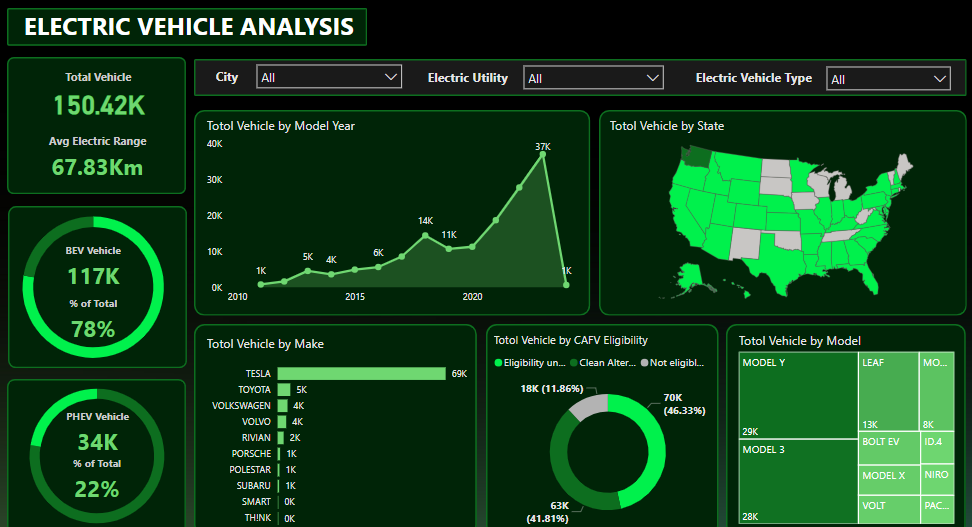

The dashboard page shown, as its layout file describes it:
{"tool":"powerbi","page":{"name":"Electric Vehicle Dashboard","canvas":[1280,720],"ordinal":0},"visuals":[{"type":"shape","box":[9.6,15.1,473.5,49.5],"z":0},{"type":"textbox","box":[26.2,12.4,456.9,55.1],"z":1000},{"type":"shape","box":[9.6,79.8,235.4,180.3],"z":2000},{"type":"card","title":"Total Vehicle","fields":{"Values":["Electric_Vehicle_Population_Data.Totol Vehicle"]},"box":[11.4,95.8,234.5,70.1],"z":3000},{"type":"card","title":"Avg Electric Range","fields":{"Values":["Electric_Vehicle_Population_Data.Avg Range"]},"box":[11,180.3,235.4,70.2],"z":4000},{"type":"shape","box":[11,275.3,235.4,213.3],"z":5000},{"type":"donutChart","fields":{"Y":["Electric_Vehicle_Population_Data.Totol Vehicle"],"Category":["Electric_Vehicle_Population_Data.Electric Vehicle Type"]},"box":[0,261.5,245,242.2],"z":6000},{"type":"card","title":"BEV Vehicle","fields":{"Values":["Electric_Vehicle_Population_Data.BEV Vehicle"]},"box":[48.6,324.6,147.3,70.1],"z":7000},{"type":"card","title":"% of Total","fields":{"Values":["Electric_Vehicle_Population_Data.% of BEV"]},"box":[62.9,394.7,118.7,70.1],"z":8000},{"type":"shape","box":[9.6,503.7,235.4,205.1],"z":9000},{"type":"donutChart","fields":{"Y":["Electric_Vehicle_Population_Data.Totol Vehicle"],"Category":["Electric_Vehicle_Population_Data.Electric Vehicle Type"]},"box":[0,488.6,254.6,231.2],"z":10000},{"type":"card","title":"PHEV Vehicle","fields":{"Values":["Electric_Vehicle_Population_Data.PHEV Vehicle"]},"box":[53.7,542.3,148.6,70.2],"z":11000},{"type":"card","title":"% of Total","fields":{"Values":["Electric_Vehicle_Population_Data.% of PHEV"]},"box":[68.8,604.2,118.4,70.2],"z":12000},{"type":"shape","box":[254.6,150.2,520.6,270.3],"z":13000},{"type":"areaChart","fields":{"Category":["Electric_Vehicle_Population_Data.Model Year"],"Y":["Electric_Vehicle_Population_Data.Totol Vehicle"]},"box":[266.7,159,495.3,254.9],"z":14000},{"type":"shape","box":[254.6,82.9,1015.4,48.6],"z":15000},{"type":"shape","box":[786.6,150.2,483.4,270.3],"z":16000},{"type":"shapeMap","fields":{"Category":["Electric_Vehicle_Population_Data.State"],"Value":["Electric_Vehicle_Population_Data.Totol Vehicle"]},"box":[796.6,158.7,473.4,254.6],"z":17000},{"type":"shape","box":[254.6,430.8,371.6,278],"z":18000},{"type":"barChart","fields":{"Y":["Electric_Vehicle_Population_Data.Totol Vehicle"],"Category":["Electric_Vehicle_Population_Data.Make"]},"box":[267,445.9,359.2,262.9],"z":19000},{"type":"shape","box":[638.6,430.8,305.5,279.4],"z":20000},{"type":"donutChart","title":"Totol Vehicle by CAFV Eligibility","fields":{"Category":["Electric_Vehicle_Population_Data.Clean Alternative Fuel Vehicle (CAFV) Eligibility"],"Y":["Electric_Vehicle_Population_Data.Totol Vehicle"]},"box":[644.1,441.8,309.7,267],"z":21000},{"type":"shape","box":[953.8,430.8,315.2,279.4],"z":22000},{"type":"treemap","fields":{"Values":["Electric_Vehicle_Population_Data.Totol Vehicle"],"Group":["Electric_Vehicle_Population_Data.Model"]},"box":[966.2,441.8,293.2,257.4],"z":23000},{"type":"slicer","fields":{"Values":["Electric_Vehicle_Population_Data.Electric Utility"]},"box":[678.5,81.2,203.7,49.5],"z":24000},{"type":"textbox","box":[278,89.5,66.1,35.8],"z":25000},{"type":"textbox","box":[557.4,90.8,133.5,35.8],"z":26000},{"type":"slicer","fields":{"Values":["Electric_Vehicle_Population_Data.City"]},"box":[327.6,79.8,210.6,49.5],"z":27000},{"type":"slicer","fields":{"Values":["Electric_Vehicle_Population_Data.Electric Utility"]},"box":[1076.3,82.6,183.1,49.5],"z":28000},{"type":"textbox","box":[909.8,90.8,180.3,35.8],"z":29000}]}

Visuals, with their boxes on the page's 1280x720 design canvas (x1, y1, x2, y2). These are canvas units, not pixel positions in the 972x527 screenshot, which may show the page scaled, cropped or inside an application window:
shape: box=[10, 15, 483, 65]
textbox: box=[26, 12, 483, 68]
shape: box=[10, 80, 245, 260]
"Total Vehicle" card: box=[11, 96, 246, 166]
"Avg Electric Range" card: box=[11, 180, 246, 250]
shape: box=[11, 275, 246, 489]
donutChart - Electric_Vehicle_Population_Data.Totol Vehicle x Electric_Vehicle_Population_Data.Electric Vehicle Type: box=[0, 262, 245, 504]
"BEV Vehicle" card: box=[49, 325, 196, 395]
"% of Total" card: box=[63, 395, 182, 465]
shape: box=[10, 504, 245, 709]
donutChart - Electric_Vehicle_Population_Data.Totol Vehicle x Electric_Vehicle_Population_Data.Electric Vehicle Type: box=[0, 489, 255, 720]
"PHEV Vehicle" card: box=[54, 542, 202, 612]
"% of Total" card: box=[69, 604, 187, 674]
shape: box=[255, 150, 775, 420]
areaChart - Electric_Vehicle_Population_Data.Model Year x Electric_Vehicle_Population_Data.Totol Vehicle: box=[267, 159, 762, 414]
shape: box=[255, 83, 1270, 132]
shape: box=[787, 150, 1270, 420]
shapeMap - Electric_Vehicle_Population_Data.State x Electric_Vehicle_Population_Data.Totol Vehicle: box=[797, 159, 1270, 413]
shape: box=[255, 431, 626, 709]
barChart - Electric_Vehicle_Population_Data.Totol Vehicle x Electric_Vehicle_Population_Data.Make: box=[267, 446, 626, 709]
shape: box=[639, 431, 944, 710]
"Totol Vehicle by CAFV Eligibility" donutChart: box=[644, 442, 954, 709]
shape: box=[954, 431, 1269, 710]
treemap - Electric_Vehicle_Population_Data.Totol Vehicle x Electric_Vehicle_Population_Data.Model: box=[966, 442, 1259, 699]
slicer - Electric_Vehicle_Population_Data.Electric Utility: box=[678, 81, 882, 131]
textbox: box=[278, 90, 344, 125]
textbox: box=[557, 91, 691, 127]
slicer - Electric_Vehicle_Population_Data.City: box=[328, 80, 538, 129]
slicer - Electric_Vehicle_Population_Data.Electric Utility: box=[1076, 83, 1259, 132]
textbox: box=[910, 91, 1090, 127]
